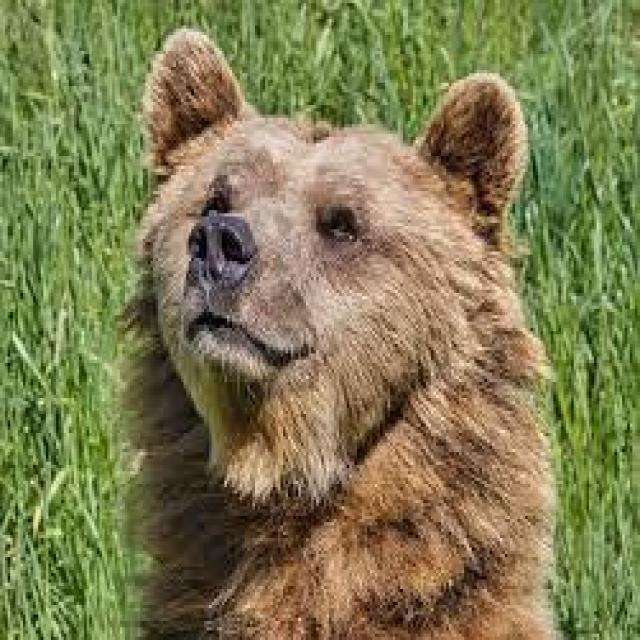Bear: (117, 29, 564, 640)
